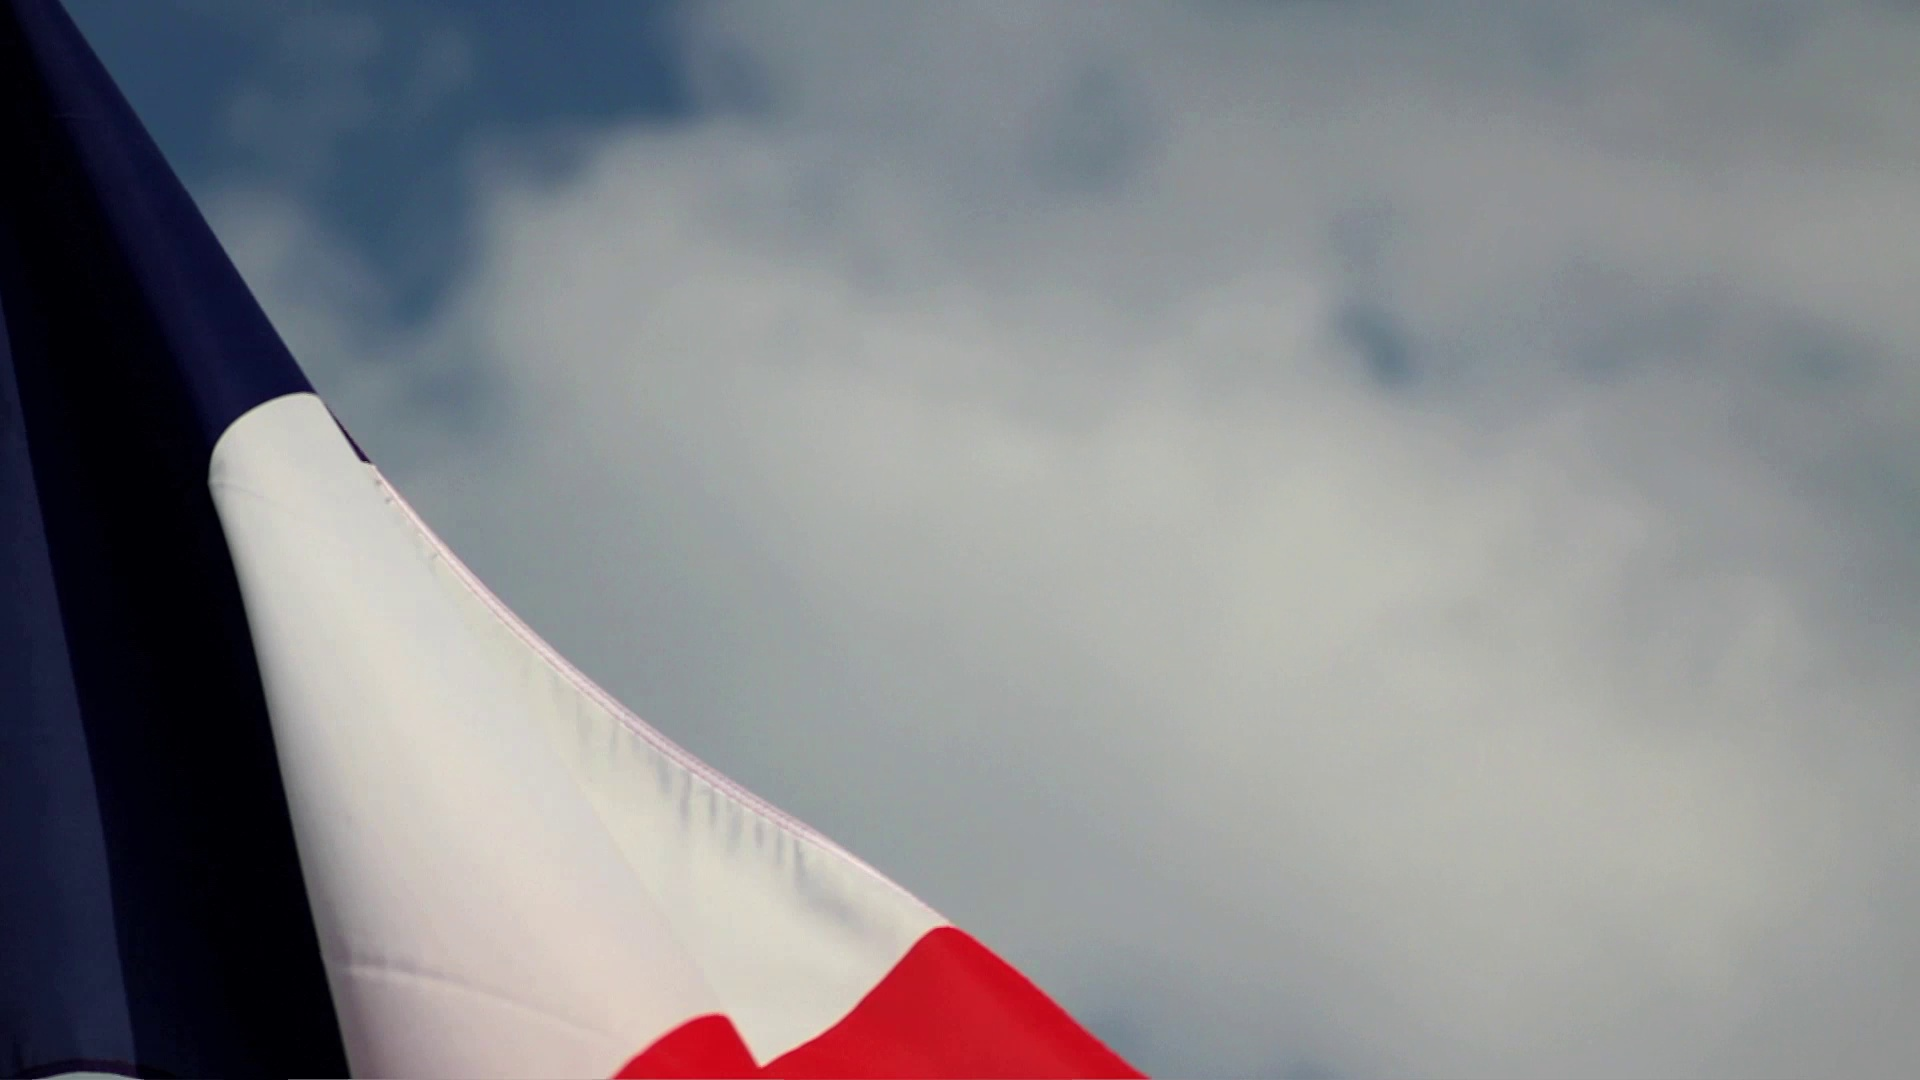French Flag: (1, 1, 1135, 1080)
